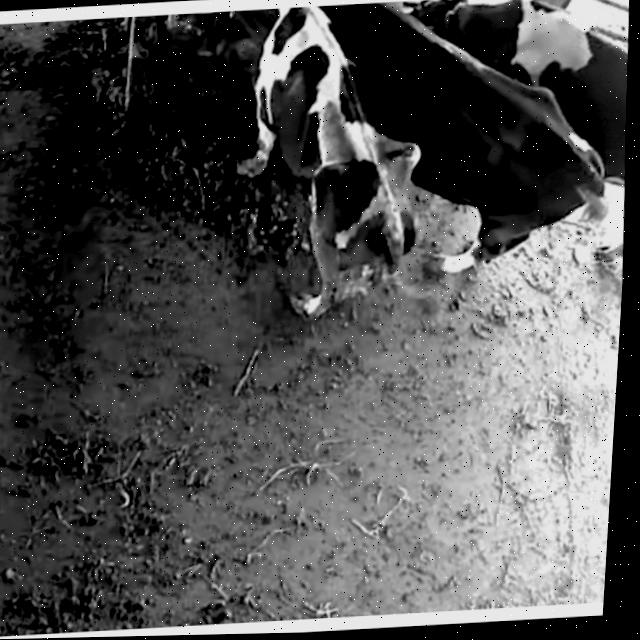drink: (153, 7, 313, 90), (280, 0, 417, 70)
